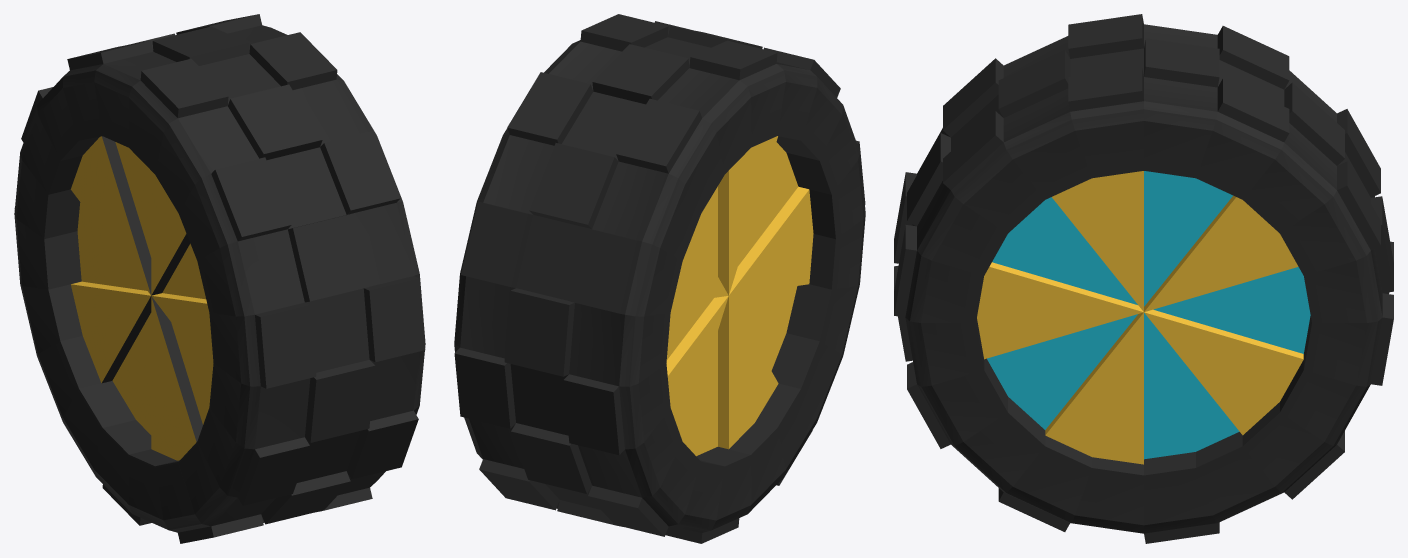
The model's file is tocak start.fbx.
3 renders of one model, left to right at view 1: azimuth 30°, elevation 25°; view 2: azimuth 150°, elevation 25°; view 3: azimuth 270°, elevation 25°, orthographic.
Visible parts, largest first — view 1: Wheel.001; view 2: Wheel.001; view 3: Wheel.001.
Boxes of the visible parts, x1=… form: Wheel.001: x1=14, y1=14, x2=425, y2=543; Wheel.001: x1=454, y1=14, x2=865, y2=543; Wheel.001: x1=894, y1=14, x2=1393, y2=543.
Bounding box in the file's own units: 48.66 × 116 × 116.
